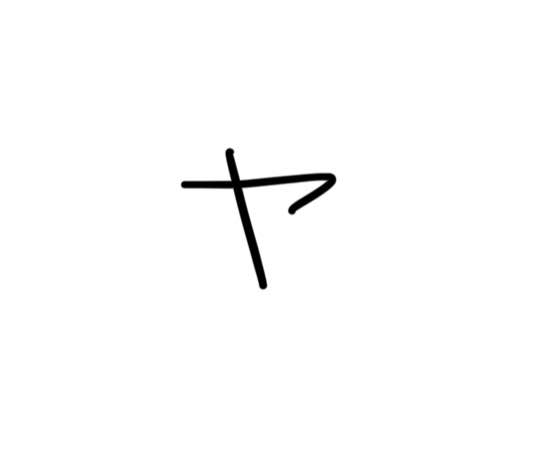ya: (174, 134, 344, 297)
